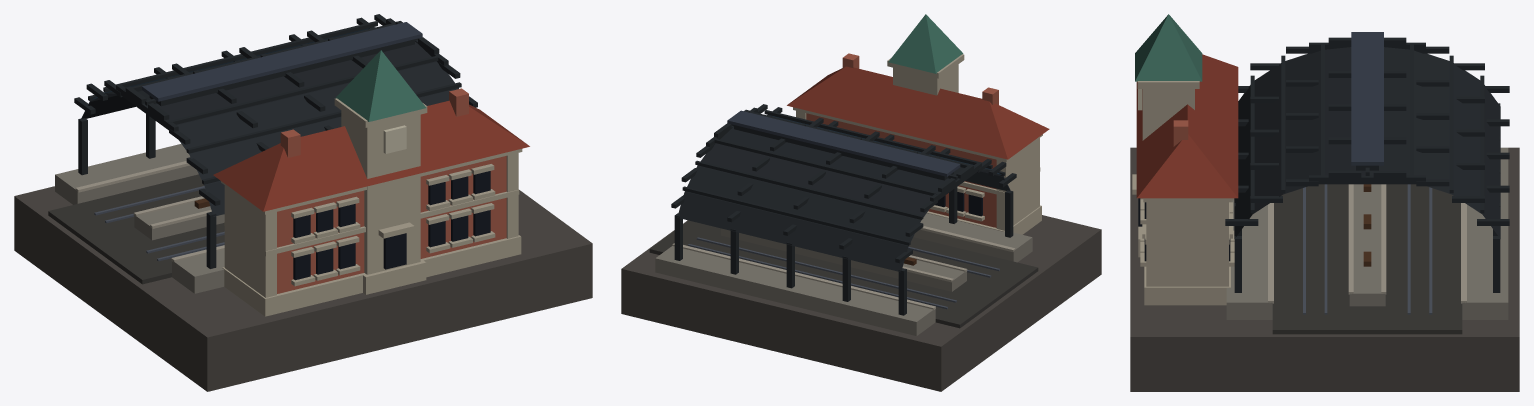
Rendered from rail_station_2track.glb.
3 views of the same model, side by side, from view 1: azimuth 30°, elevation 25°; view 2: azimuth 150°, elevation 25°; view 3: azimuth 270°, elevation 25° (orthographic). The views are drawn at different scales.
Visible parts, largest first — view 1: RailStation2Track; view 2: RailStation2Track; view 3: RailStation2Track.
Boxes of the visible parts, x1,y1,x2,y2 form: RailStation2Track: (14,14,592,391); RailStation2Track: (621,14,1101,391); RailStation2Track: (1130,14,1519,391).
Size of the model in its own units: 2.74 by 1.91 by 2.38.
